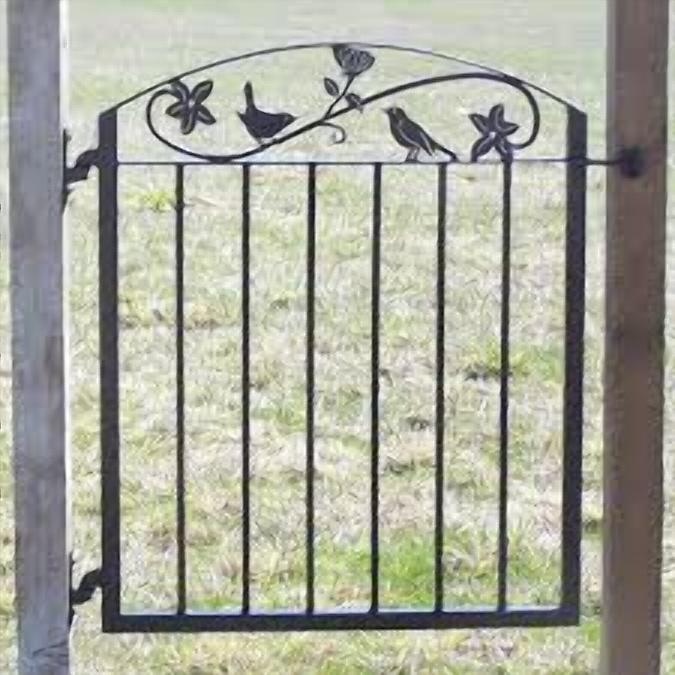Gate: (59, 39, 609, 633)
